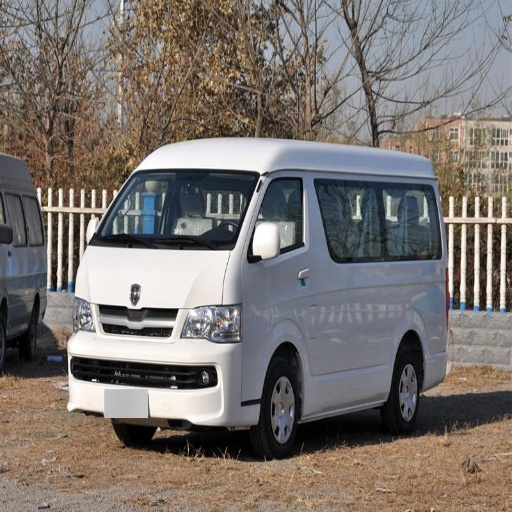front_bumper: (71, 283, 268, 427)
front_glass: (94, 174, 257, 250)
front_left_door: (247, 173, 306, 275)
trunk: (315, 263, 453, 389), (91, 258, 153, 291)
